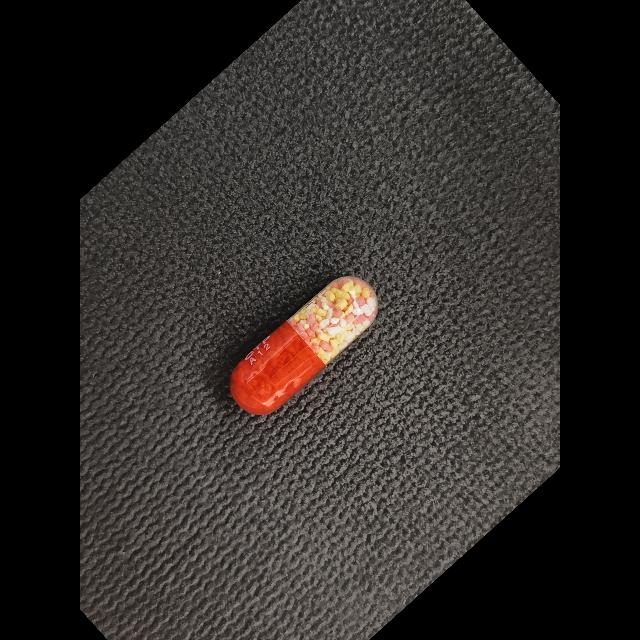Intact Capsule: (230, 276, 378, 415)
